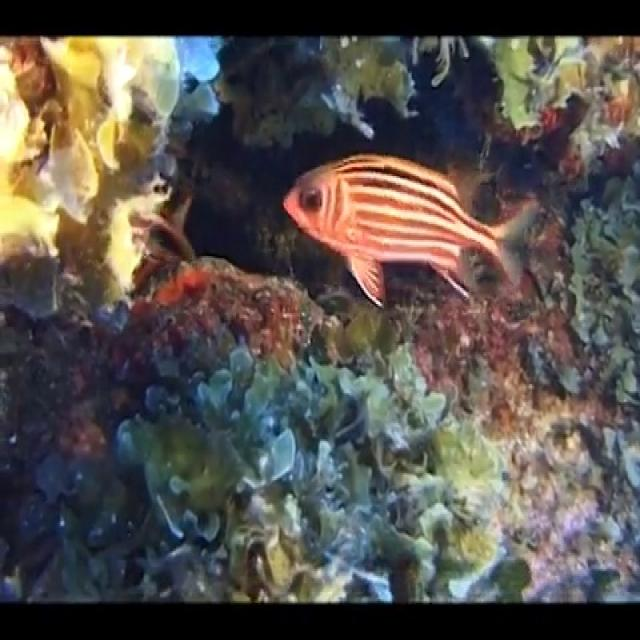Asker Baligi: (280, 150, 540, 310)
